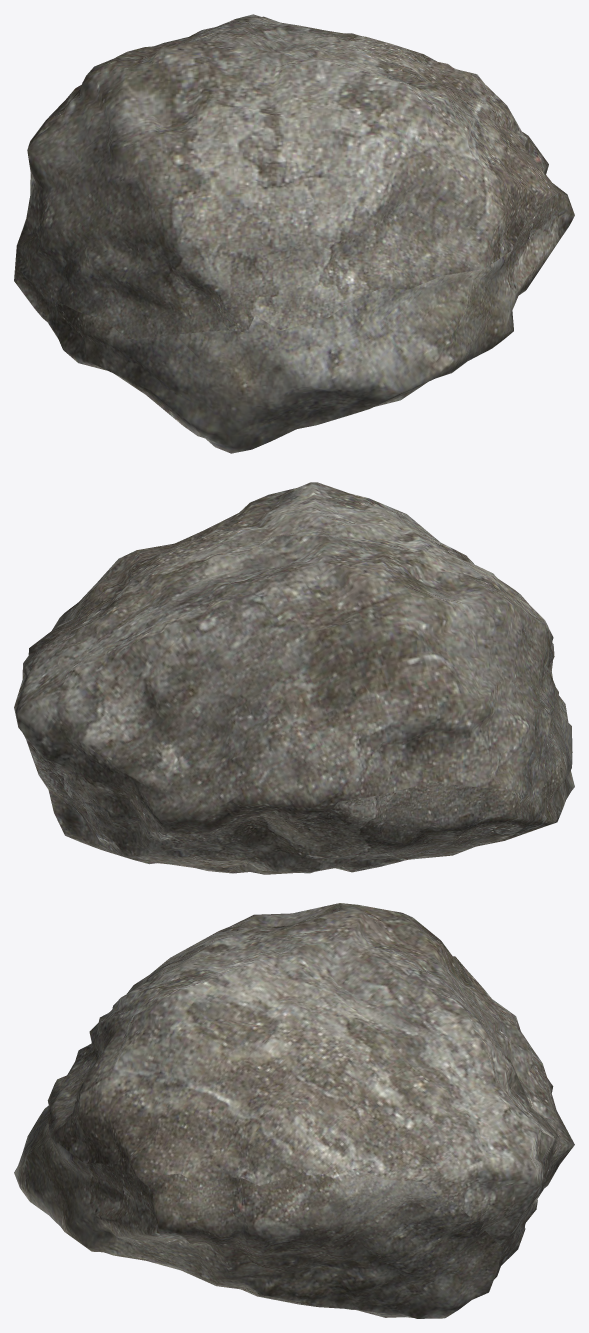
Rendered from stone.fbx.
The picture shows the model from 3 angles, top to bottom: view 1: azimuth 30°, elevation 25°; view 2: azimuth 150°, elevation 25°; view 3: azimuth 270°, elevation 25°; orthographic projection.
Visible parts, largest first — view 1: Stone; view 2: Stone; view 3: Stone.
Part boxes in pixels (left/top/right/bottom): Stone: left=14, top=14, right=574, bottom=453; Stone: left=14, top=482, right=574, bottom=874; Stone: left=14, top=903, right=574, bottom=1318.
Size of the model in its own units: 0.9239 by 0.5953 by 0.9482.
